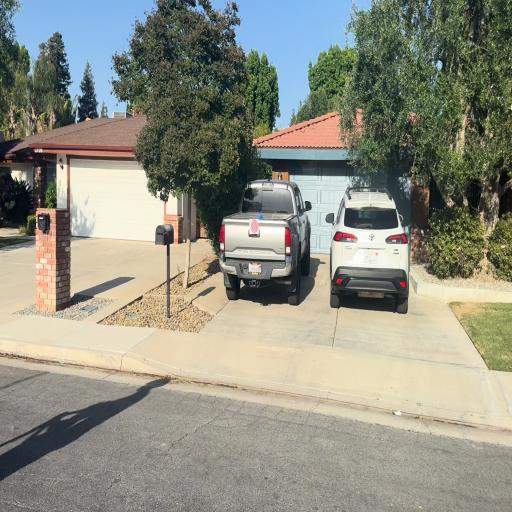bullseye: (250, 219, 259, 234)
